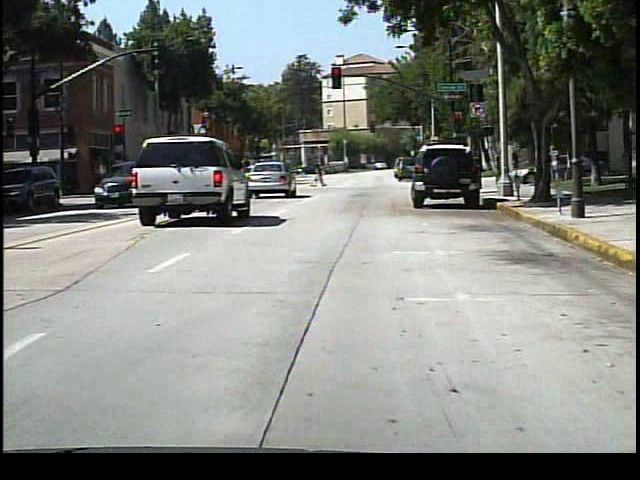person: (544, 140, 564, 186), (310, 156, 329, 189), (460, 152, 476, 184)
